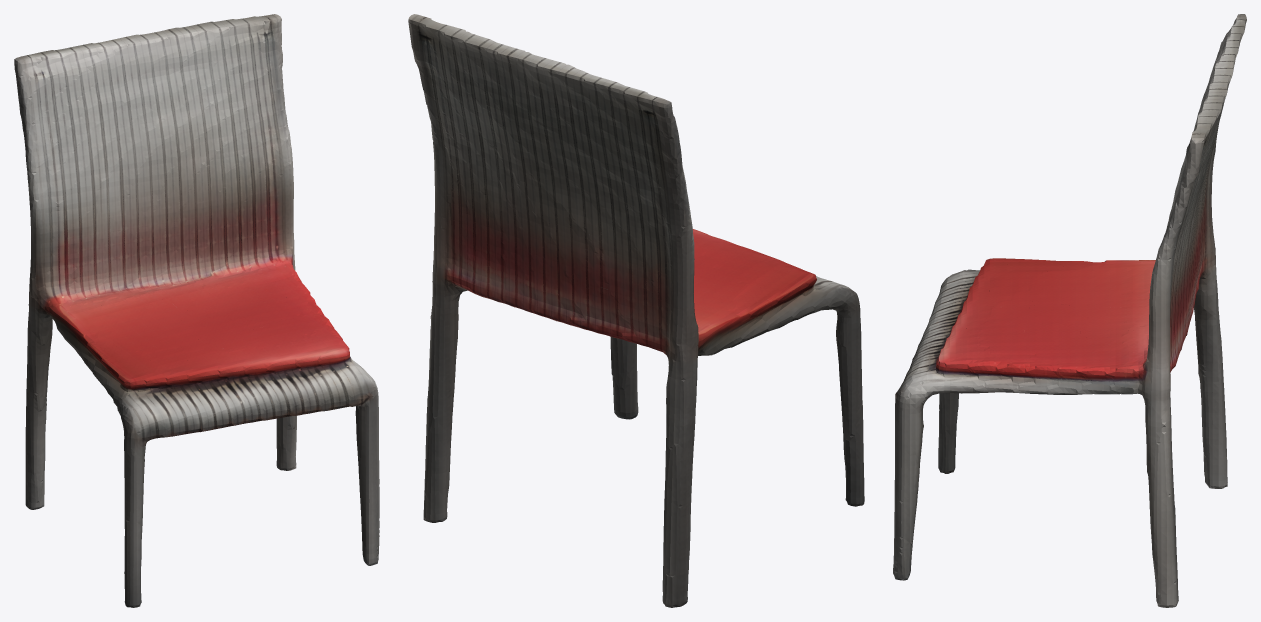
3 renders of one model, left to right at view 1: azimuth 30°, elevation 25°; view 2: azimuth 150°, elevation 25°; view 3: azimuth 270°, elevation 25°, orthographic. The views are drawn at different scales.
Visible parts, largest first — view 1: input.obj; view 2: input.obj; view 3: input.obj.
Part boxes in pixels (x1,y1,x2,y2): input.obj: (14,14,379,607); input.obj: (408,14,864,607); input.obj: (893,14,1246,607).
Size of the model in its own units: 0.6461 by 1 by 0.683.
Materials: 1 (1 with a texture image).
